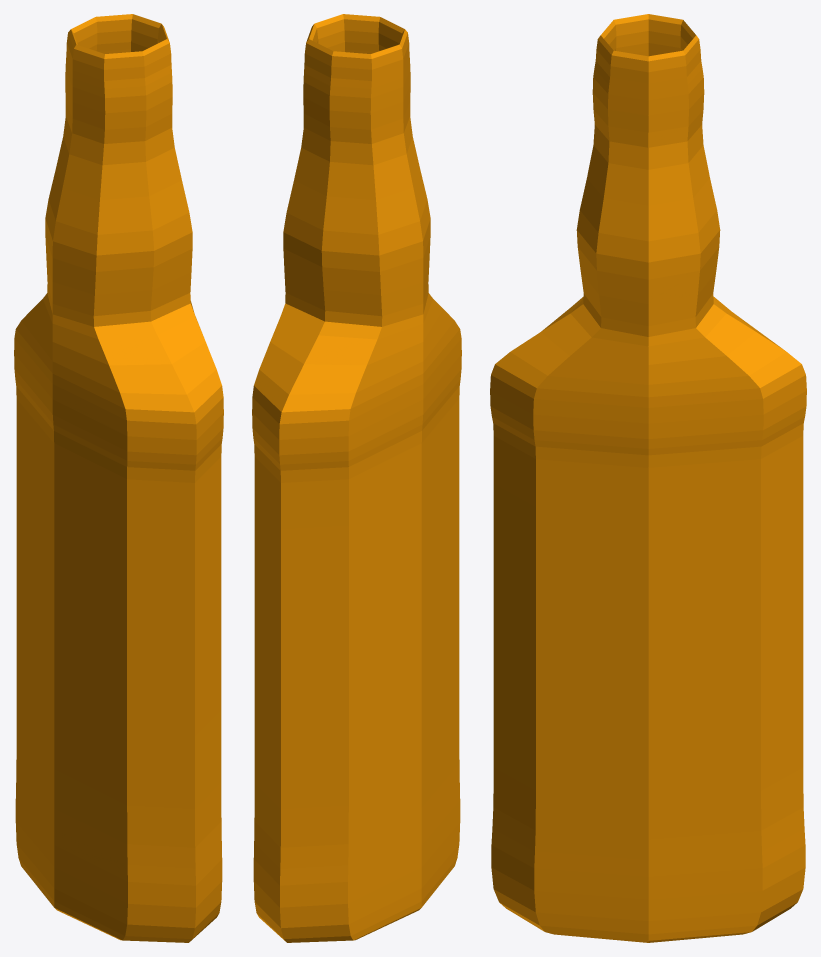
File: jack_daniels_bottle.fbx
3 views of the same model, side by side, from view 1: azimuth 30°, elevation 25°; view 2: azimuth 150°, elevation 25°; view 3: azimuth 270°, elevation 25° (orthographic).
Parts seen in each view (by area): view 1: Cube; view 2: Cube; view 3: Cube.
Boxes of the visible parts, x1,y1,x2,y2 form: Cube: [14, 14, 223, 942]; Cube: [252, 14, 461, 942]; Cube: [490, 14, 806, 942].
Bounding box in the file's own units: 8.85 × 54.89 × 17.94.
